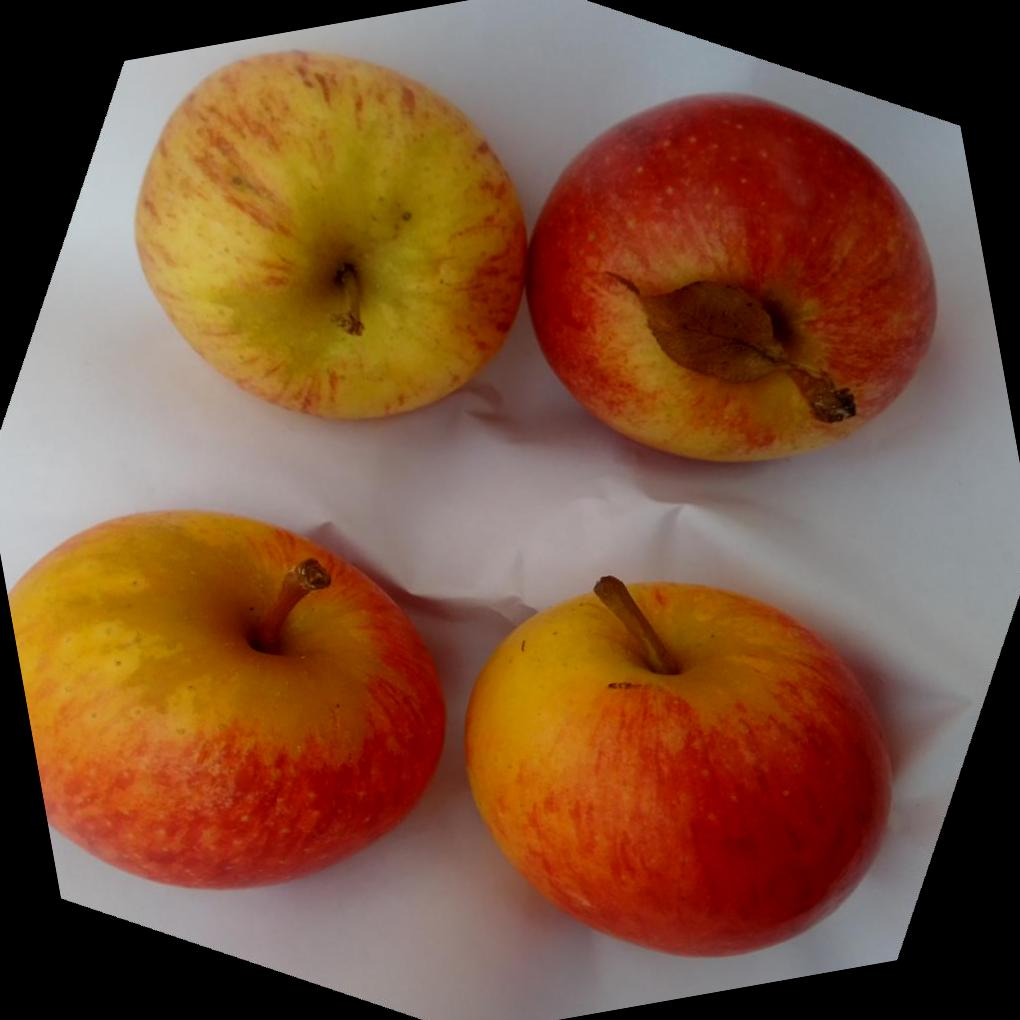FreshGuava: (133, 51, 937, 466), (7, 510, 449, 894), (461, 579, 893, 966)
